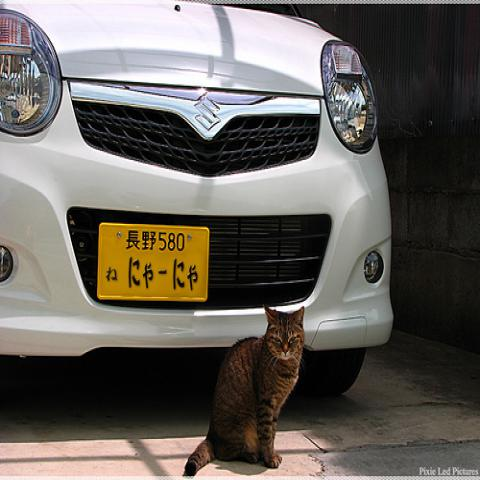car: (0, 0, 396, 402)
